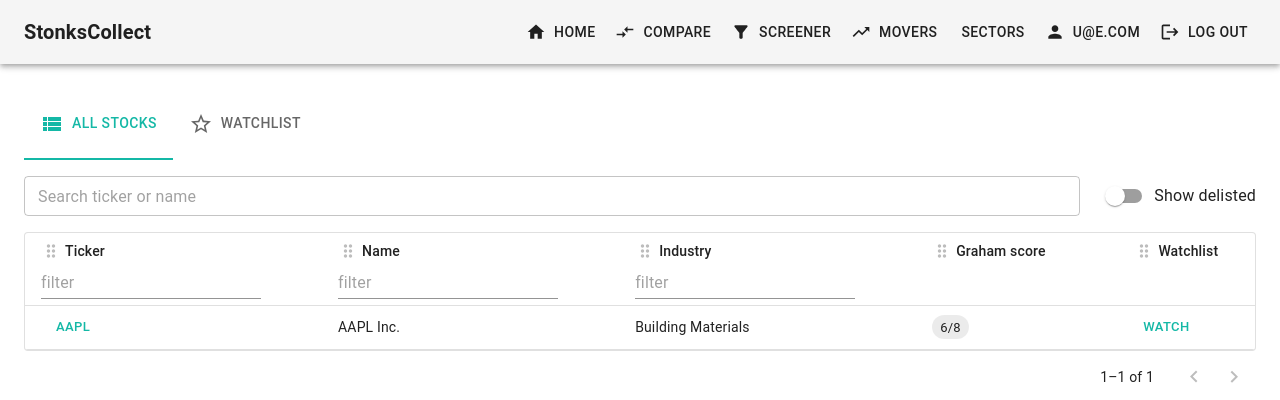
Scenario: Compare navigates to the empty CompareView
Expected: the field named "search stocks" is shown, [24, 176, 1080, 216]
Click the button "Compare" at [665, 32], box [612, 14, 719, 50]
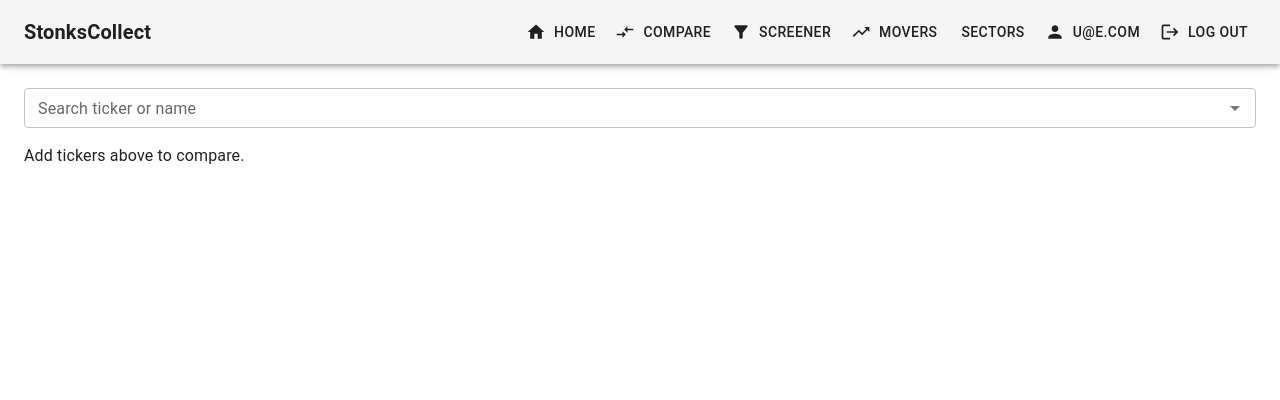
Result: the text "Add tickers above to compare." is shown at [24, 146, 245, 165]
